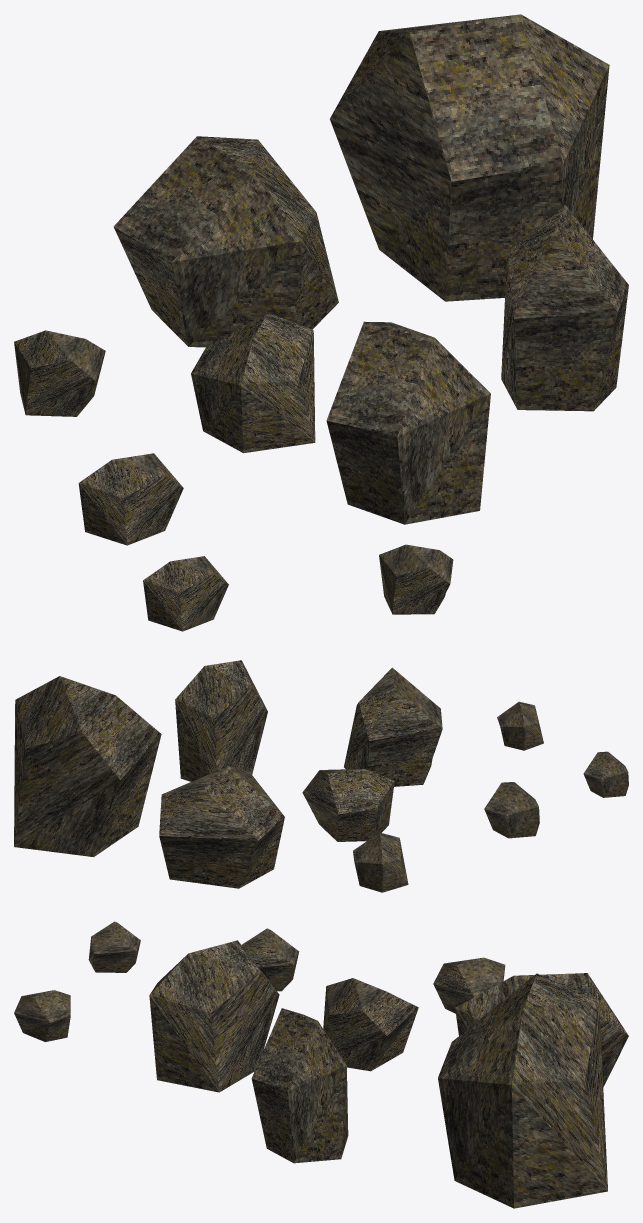
File: rocks05.obj
3 renders of one model, top to bottom at view 1: azimuth 30°, elevation 25°; view 2: azimuth 150°, elevation 25°; view 3: azimuth 270°, elevation 25°, orthographic. The views are drawn at different scales.
Visible parts, largest first — view 1: Rocks5; view 2: Rocks5; view 3: Rocks5.
Part boxes in pixels (box(x1,y1,x2,y2)): Rocks5: box(14, 14, 628, 631); Rocks5: box(14, 660, 628, 892); Rocks5: box(14, 921, 628, 1208).
Size of the model in its own units: 23.94 by 7.53 by 23.81.
1 material, 1 textured.
